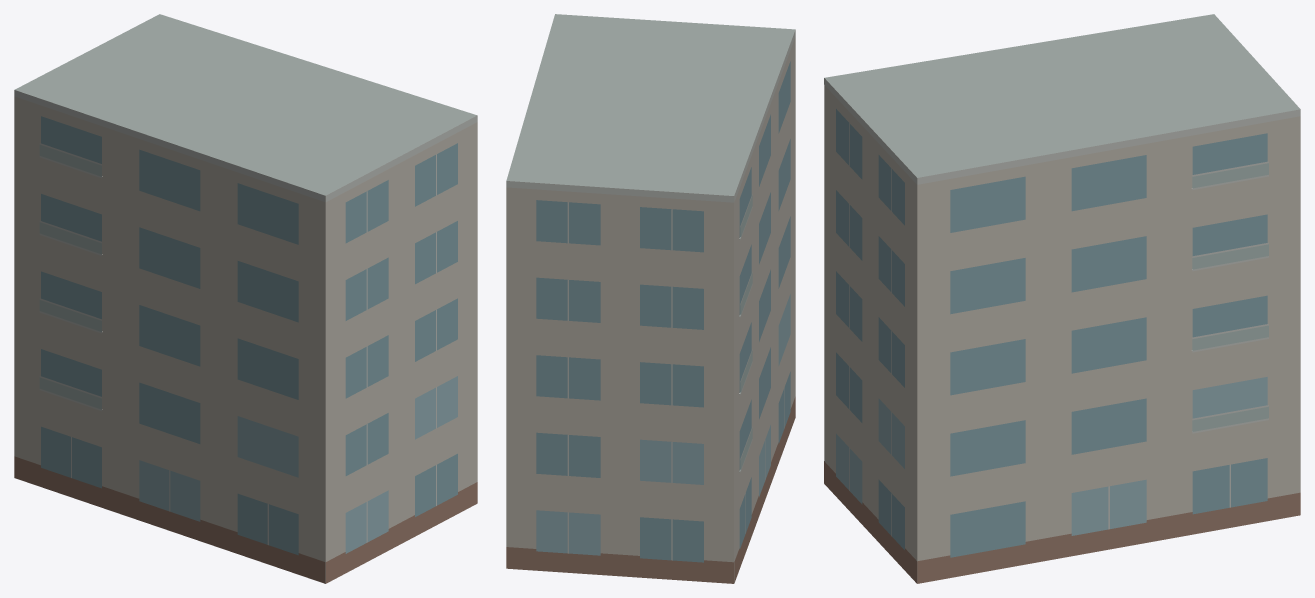
The model's file is survey-upis-32882662.glb.
3 views of the same model, side by side, from view 1: azimuth 30°, elevation 25°; view 2: azimuth 150°, elevation 25°; view 3: azimuth 270°, elevation 25° (orthographic). The views are drawn at different scales.
Visible parts, largest first — view 1: survey-upis-32882662.tmp; view 2: survey-upis-32882662.tmp; view 3: survey-upis-32882662.tmp.
Part boxes in pixels (bbox=[...]): survey-upis-32882662.tmp: bbox=[14, 14, 477, 583]; survey-upis-32882662.tmp: bbox=[506, 14, 795, 583]; survey-upis-32882662.tmp: bbox=[824, 14, 1300, 583].
Bounding box in the file's own units: 12.48 × 14.4 × 15.33.
